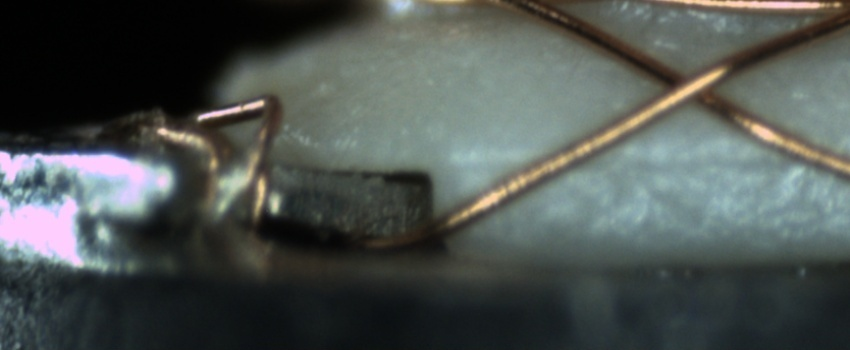CL: (632, 50, 737, 121)
DL: (468, 133, 849, 189)
TE: (142, 88, 292, 230)
